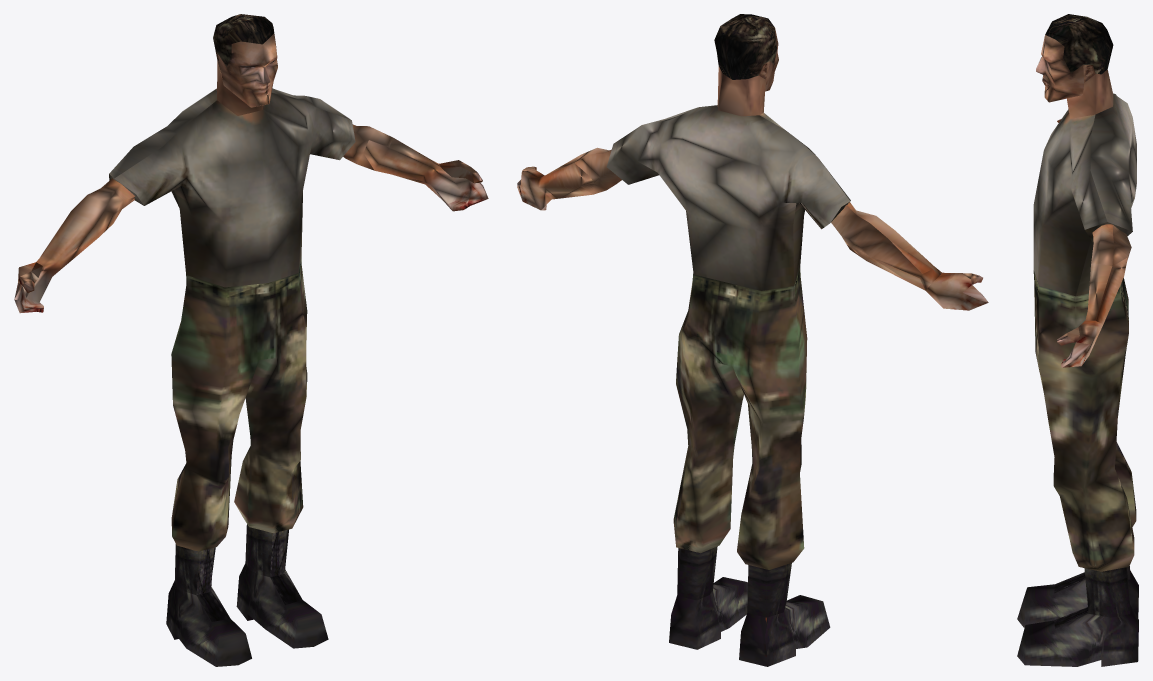
Rendered from C4Recrut.glb.
3 views of the same model, side by side, from view 1: azimuth 30°, elevation 25°; view 2: azimuth 150°, elevation 25°; view 3: azimuth 270°, elevation 25° (orthographic).
Visible parts, largest first — view 1: _C4Recrut; view 2: _C4Recrut; view 3: _C4Recrut.
Boxes of the visible parts, x1,y1,x2,y2 form: _C4Recrut: (14,14,488,666); _C4Recrut: (517,14,988,666); _C4Recrut: (1017,14,1138,666).
Size of the model in its own units: 1.6 by 2.01 by 0.3592.
1 material, 1 textured.
